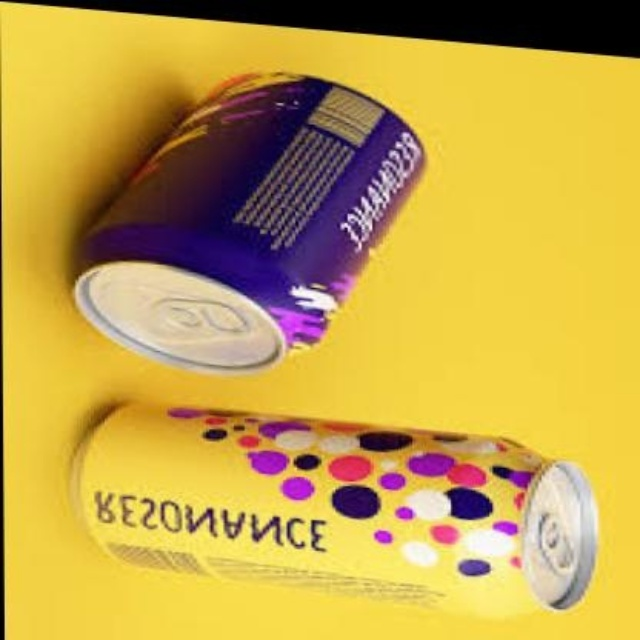trash: (78, 405, 595, 612), (75, 74, 422, 371)
